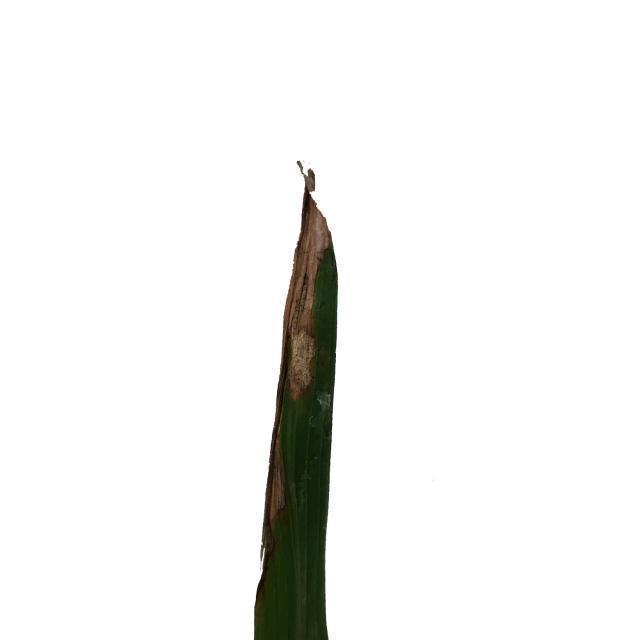Bacterial_Leaf_Blight: (291, 187, 332, 452), (266, 445, 303, 522)
